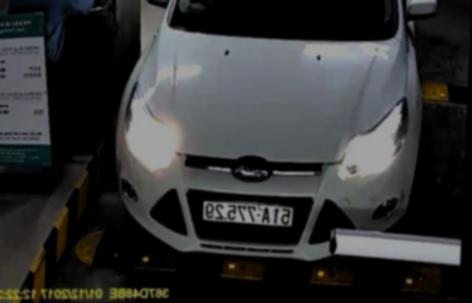License_Plate: (199, 201, 294, 226)
